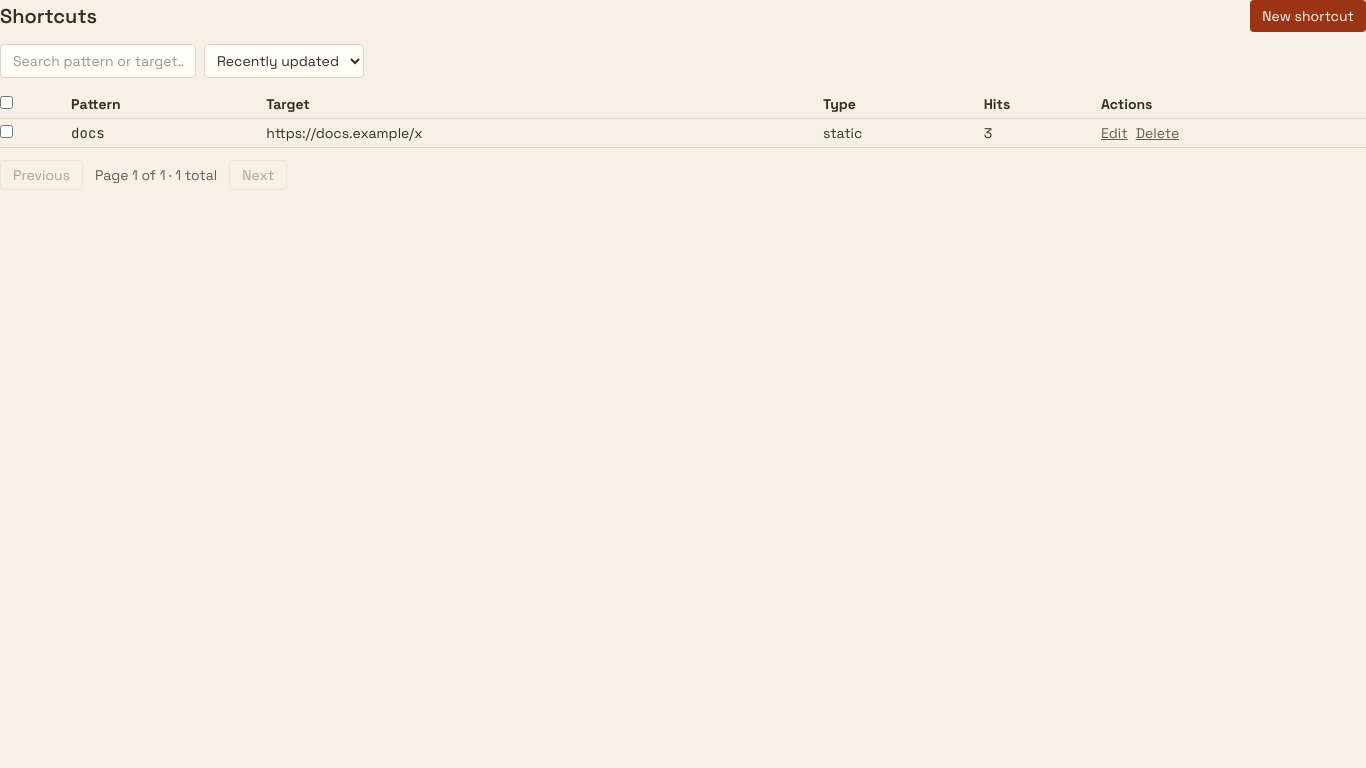
ShortcutsPage › switches the creation popup to wizard mode
Expected: the text "docs" is shown, top-left (71, 118), bottom-right (266, 148)
Step 1. Click the button "New shortcut" → x=1308, y=16, box top-left (1250, 0), bottom-right (1365, 32)
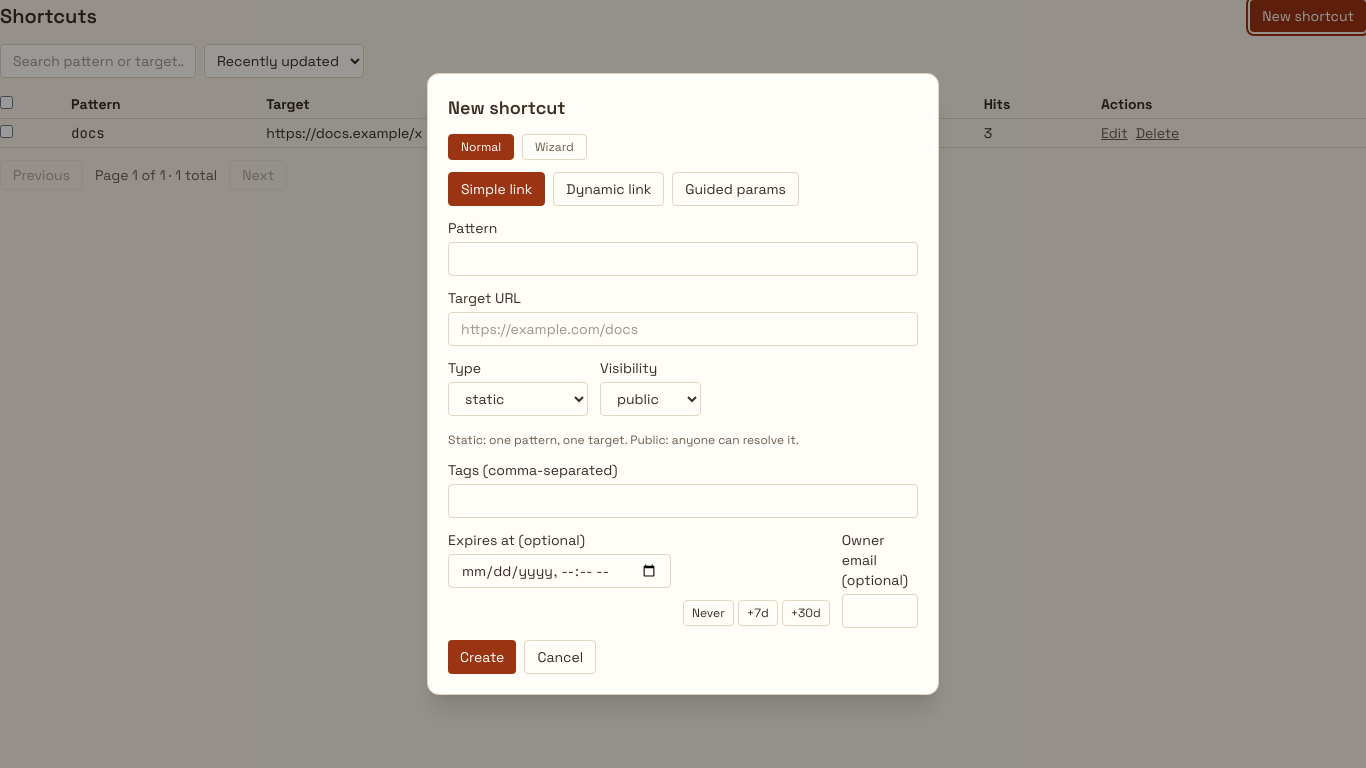
Step 2. Click the tab "Wizard" → x=554, y=147, box top-left (522, 134), bottom-right (587, 160)
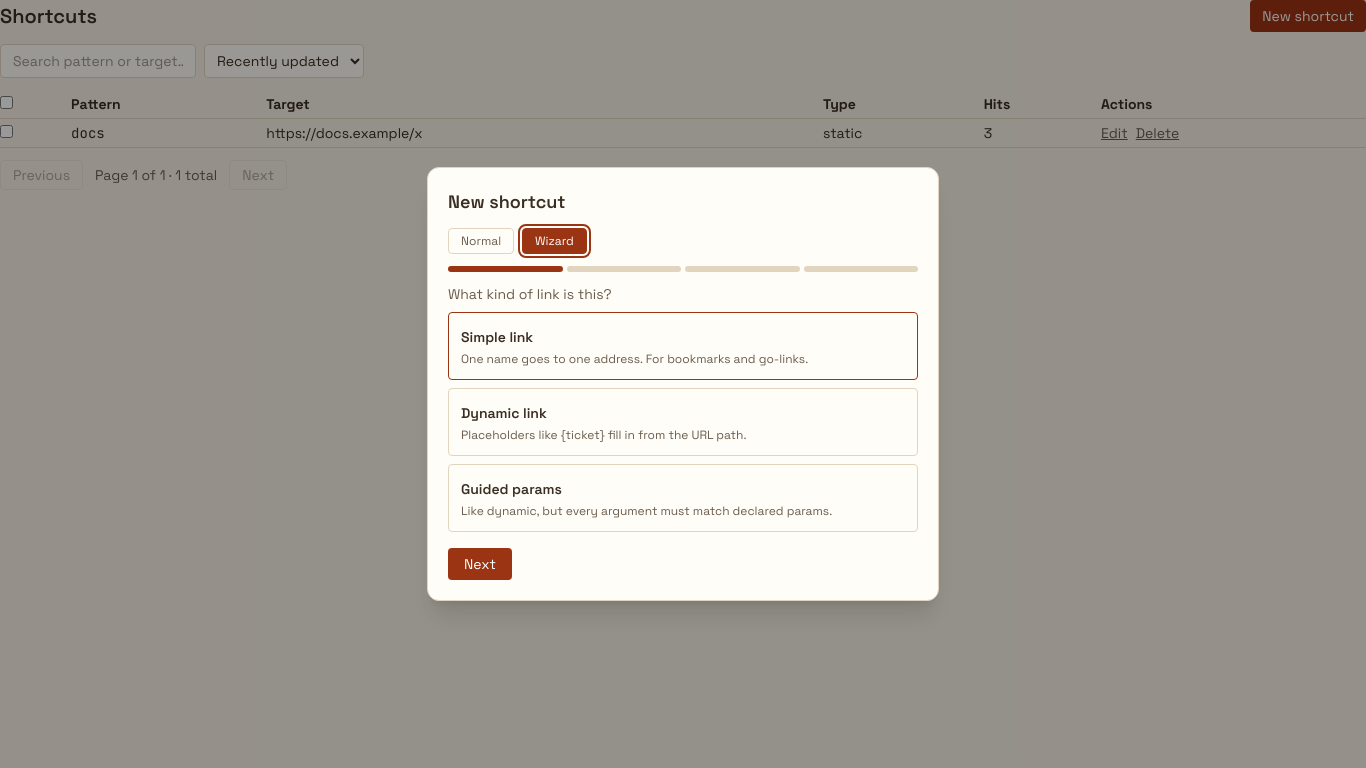
Expected: the radio button labelled "Guided params" is shown, top-left (448, 464), bottom-right (918, 532)
Expected: the text "What kind of link is this?" is shown, top-left (448, 285), bottom-right (612, 303)
